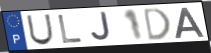1: (123, 8, 145, 43)
A: (174, 6, 206, 39)
D: (142, 7, 172, 43)
J: (90, 11, 113, 43)
L: (57, 14, 85, 45)
U: (25, 13, 55, 46)
